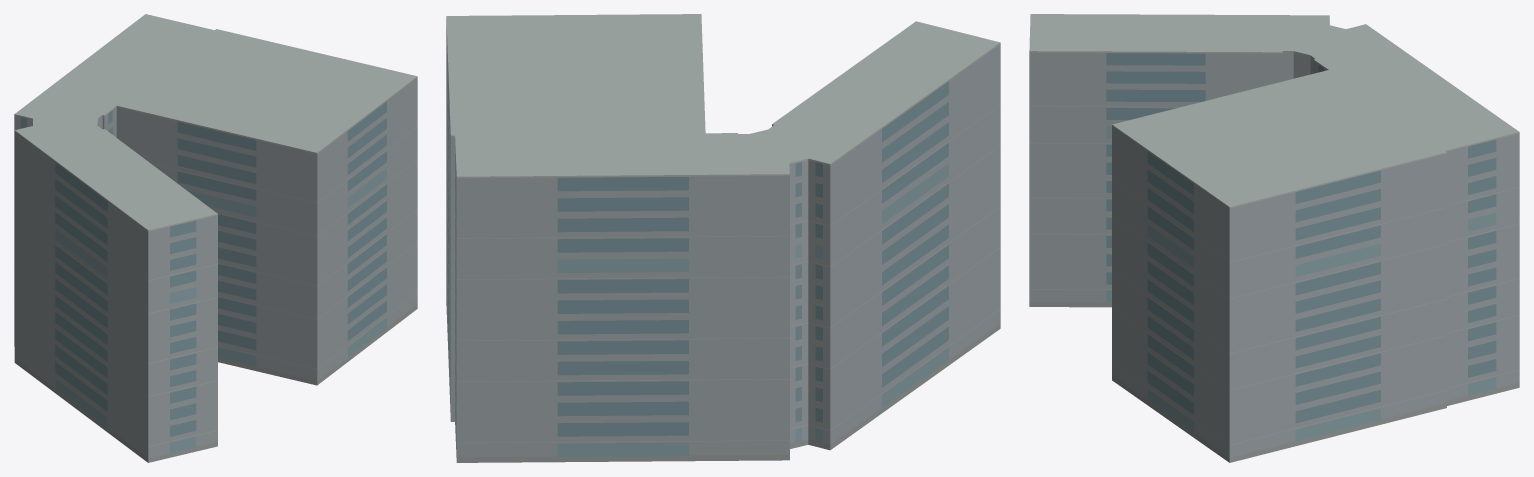
File: survey-upis-32939197.glb
3 views of the same model, side by side, from view 1: azimuth 30°, elevation 25°; view 2: azimuth 150°, elevation 25°; view 3: azimuth 270°, elevation 25° (orthographic). The views are drawn at different scales.
Visible parts, largest first — view 1: survey-upis-32939197.tmp; view 2: survey-upis-32939197.tmp; view 3: survey-upis-32939197.tmp.
Part boxes in pixels (x1,y1,x2,y2): survey-upis-32939197.tmp: (14,14,417,462); survey-upis-32939197.tmp: (446,14,1000,462); survey-upis-32939197.tmp: (1029,14,1519,462).
Size of the model in its own units: 71.25 by 44 by 76.42.
